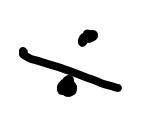div: (19, 29, 122, 97)
